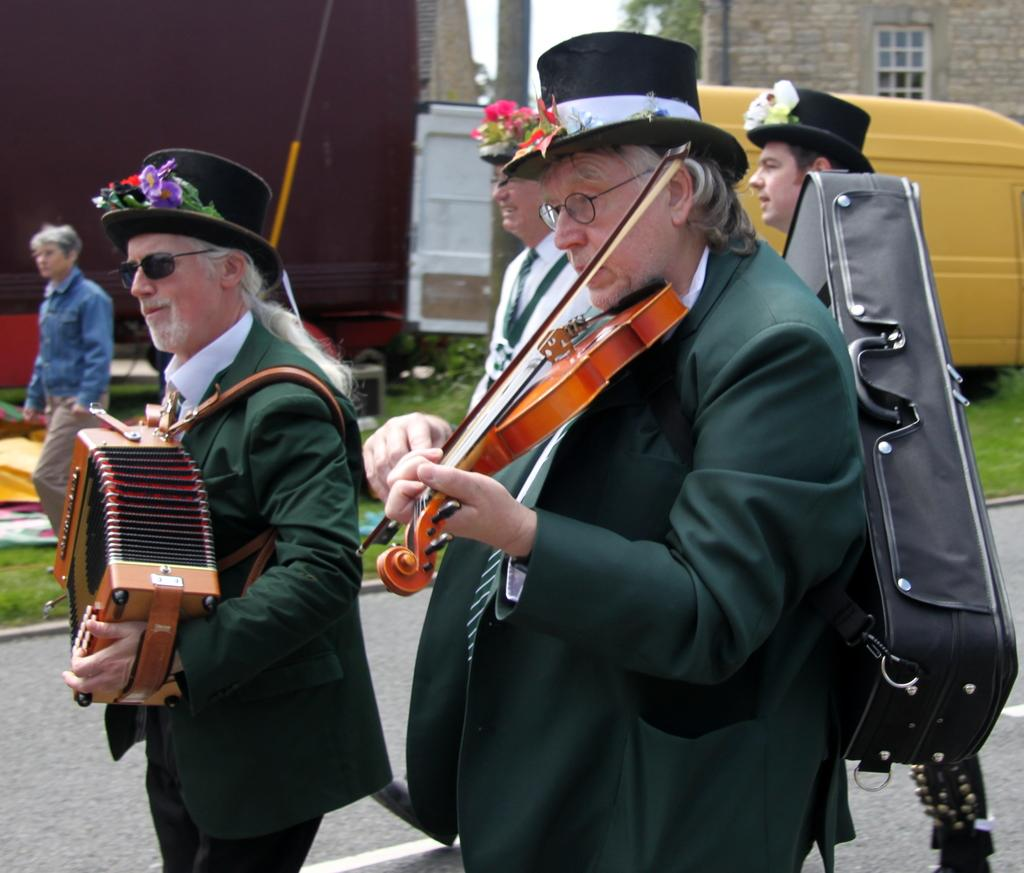Hat: (503, 31, 750, 180), (100, 148, 282, 293), (744, 76, 874, 172), (472, 96, 538, 166)
